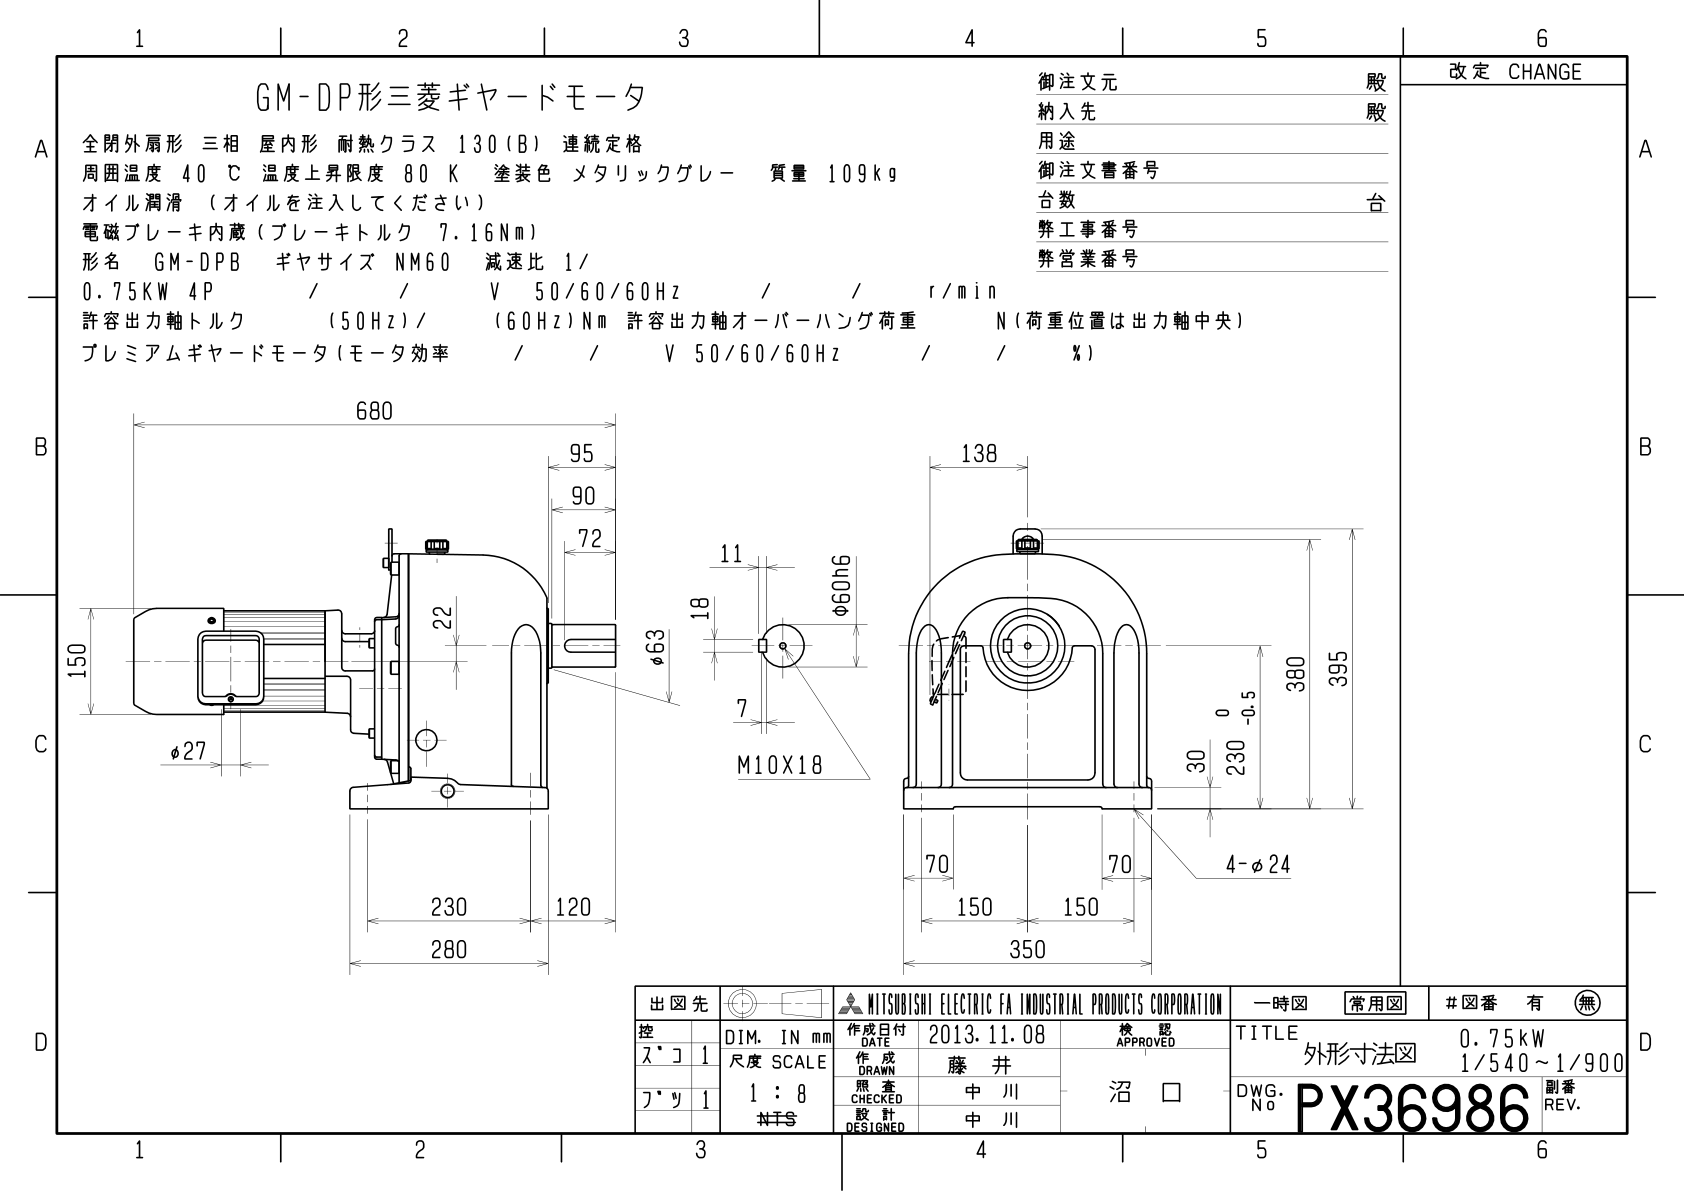GM_DP_屋内_三相_脚: (63, 373, 1386, 974)
